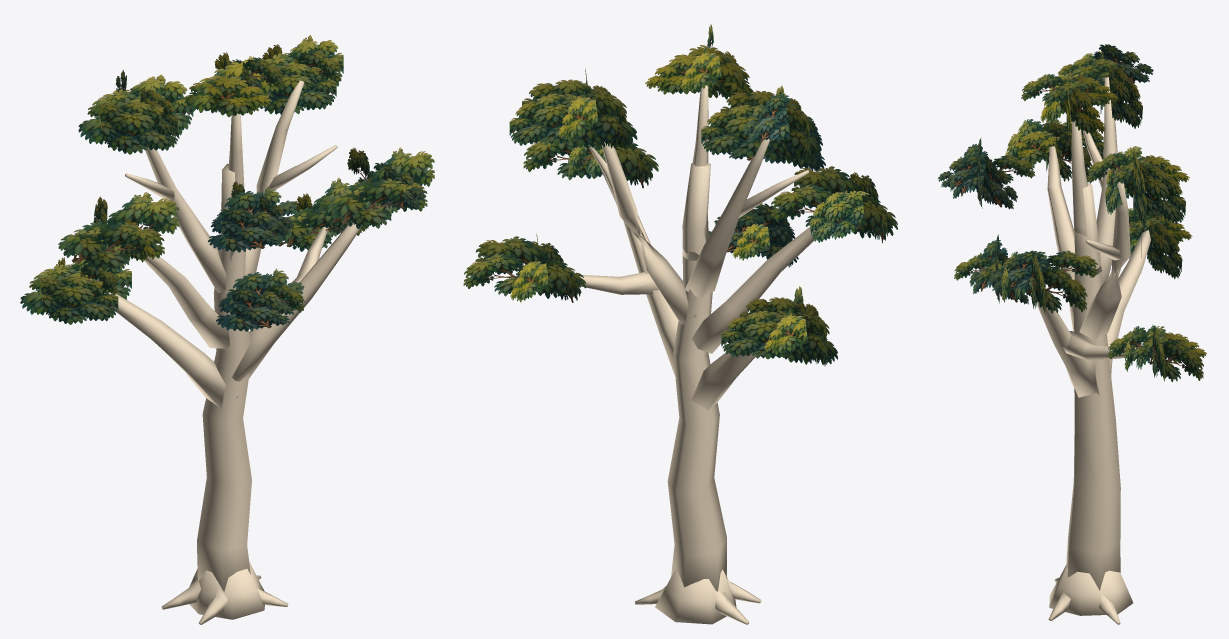
The model's file is TREE_EUCALYPTUS_001_v006_LOD_MAP.glb.
3 renders of one model, left to right at view 1: azimuth 30°, elevation 25°; view 2: azimuth 150°, elevation 25°; view 3: azimuth 270°, elevation 25°, orthographic. The views are drawn at different scales.
Parts seen in each view (by area): view 1: TREE_EUCALYPTUS_001_MAP_AUTHORED_FOLIAGE_ISLANDS, TREE_EUCALYPTUS_001_MAP_MAIN_TRUNK, TREE_EUCALYPTUS_001_MAP_LOWER_LEFT_SWEEP, TREE_EUCALYPTUS_001_MAP_MID_RIGHT_SWEEP, TREE_EUCALYPTUS_001_MAP_UPPER_LEFT_FORK, TREE_EUCALYPTUS_001_MAP_MID_LEFT_ARCH, TREE_EUCALYPTUS_001_MAP_SCULPTED_ROOT_COLLAR, TREE_EUCALYPTUS_001_MAP_UPPER_RIGHT_ARCH, TREE_EUCALYPTUS_001_MAP_CENTRAL_CROWN_FORK, TREE_EUCALYPTUS_001_MAP_RIGHT_TOP_SUPPORT, TREE_EUCALYPTUS_001_MAP_LOWER_RIGHT_REACH; view 2: TREE_EUCALYPTUS_001_MAP_AUTHORED_FOLIAGE_ISLANDS, TREE_EUCALYPTUS_001_MAP_MAIN_TRUNK, TREE_EUCALYPTUS_001_MAP_MID_LEFT_ARCH, TREE_EUCALYPTUS_001_MAP_UPPER_RIGHT_ARCH, TREE_EUCALYPTUS_001_MAP_UPPER_LEFT_FORK, TREE_EUCALYPTUS_001_MAP_SCULPTED_ROOT_COLLAR, TREE_EUCALYPTUS_001_MAP_LOWER_LEFT_SWEEP, TREE_EUCALYPTUS_001_MAP_MID_RIGHT_SWEEP, TREE_EUCALYPTUS_001_MAP_LOWER_RIGHT_REACH, TREE_EUCALYPTUS_001_MAP_CENTRAL_CROWN_FORK, TREE_EUCALYPTUS_001_MAP_LEFT_TOP_SUPPORT; view 3: TREE_EUCALYPTUS_001_MAP_AUTHORED_FOLIAGE_ISLANDS, TREE_EUCALYPTUS_001_MAP_MAIN_TRUNK, TREE_EUCALYPTUS_001_MAP_UPPER_RIGHT_ARCH, TREE_EUCALYPTUS_001_MAP_SCULPTED_ROOT_COLLAR, TREE_EUCALYPTUS_001_MAP_MID_RIGHT_SWEEP, TREE_EUCALYPTUS_001_MAP_MID_LEFT_ARCH, TREE_EUCALYPTUS_001_MAP_UPPER_LEFT_FORK, TREE_EUCALYPTUS_001_MAP_LOWER_LEFT_SWEEP, TREE_EUCALYPTUS_001_MAP_CENTRAL_CROWN_FORK, TREE_EUCALYPTUS_001_MAP_LOWER_RIGHT_REACH.
Boxes of the visible parts, <box> form: TREE_EUCALYPTUS_001_MAP_AUTHORED_FOLIAGE_ISLANDS: <box>20,35,434,331</box>; TREE_EUCALYPTUS_001_MAP_MAIN_TRUNK: <box>197,163,251,591</box>; TREE_EUCALYPTUS_001_MAP_LOWER_LEFT_SWEEP: <box>104,292,238,408</box>; TREE_EUCALYPTUS_001_MAP_MID_RIGHT_SWEEP: <box>220,221,362,381</box>; TREE_EUCALYPTUS_001_MAP_UPPER_LEFT_FORK: <box>145,146,226,293</box>; TREE_EUCALYPTUS_001_MAP_MID_LEFT_ARCH: <box>143,256,229,348</box>; TREE_EUCALYPTUS_001_MAP_SCULPTED_ROOT_COLLAR: <box>189,562,264,619</box>; TREE_EUCALYPTUS_001_MAP_UPPER_RIGHT_ARCH: <box>245,80,304,275</box>; TREE_EUCALYPTUS_001_MAP_CENTRAL_CROWN_FORK: <box>221,113,244,261</box>; TREE_EUCALYPTUS_001_MAP_RIGHT_TOP_SUPPORT: <box>268,145,337,191</box>; TREE_EUCALYPTUS_001_MAP_LOWER_RIGHT_REACH: <box>288,227,328,285</box>; TREE_EUCALYPTUS_001_MAP_AUTHORED_FOLIAGE_ISLANDS: <box>463,24,897,366</box>; TREE_EUCALYPTUS_001_MAP_MAIN_TRUNK: <box>667,163,726,591</box>; TREE_EUCALYPTUS_001_MAP_MID_LEFT_ARCH: <box>692,215,846,353</box>; TREE_EUCALYPTUS_001_MAP_UPPER_RIGHT_ARCH: <box>601,142,696,324</box>; TREE_EUCALYPTUS_001_MAP_UPPER_LEFT_FORK: <box>685,138,769,298</box>; TREE_EUCALYPTUS_001_MAP_SCULPTED_ROOT_COLLAR: <box>655,569,736,624</box>; TREE_EUCALYPTUS_001_MAP_LOWER_LEFT_SWEEP: <box>691,352,756,410</box>; TREE_EUCALYPTUS_001_MAP_MID_RIGHT_SWEEP: <box>601,169,707,379</box>; TREE_EUCALYPTUS_001_MAP_LOWER_RIGHT_REACH: <box>577,272,658,294</box>; TREE_EUCALYPTUS_001_MAP_CENTRAL_CROWN_FORK: <box>682,85,708,260</box>; TREE_EUCALYPTUS_001_MAP_LEFT_TOP_SUPPORT: <box>738,170,809,218</box>; TREE_EUCALYPTUS_001_MAP_AUTHORED_FOLIAGE_ISLANDS: <box>938,44,1206,382</box>; TREE_EUCALYPTUS_001_MAP_MAIN_TRUNK: <box>1066,183,1120,590</box>; TREE_EUCALYPTUS_001_MAP_UPPER_RIGHT_ARCH: <box>1079,182,1130,340</box>; TREE_EUCALYPTUS_001_MAP_SCULPTED_ROOT_COLLAR: <box>1049,564,1133,615</box>; TREE_EUCALYPTUS_001_MAP_MID_RIGHT_SWEEP: <box>1037,286,1099,397</box>; TREE_EUCALYPTUS_001_MAP_MID_LEFT_ARCH: <box>1047,146,1074,331</box>; TREE_EUCALYPTUS_001_MAP_UPPER_LEFT_FORK: <box>1096,77,1117,283</box>; TREE_EUCALYPTUS_001_MAP_LOWER_LEFT_SWEEP: <box>1107,230,1150,376</box>; TREE_EUCALYPTUS_001_MAP_CENTRAL_CROWN_FORK: <box>1071,99,1101,277</box>; TREE_EUCALYPTUS_001_MAP_LOWER_RIGHT_REACH: <box>1062,331,1125,360</box>.
Bounding box in the file's own units: 9.62 × 13.95 × 6.58.
2 materials, 1 textured.
